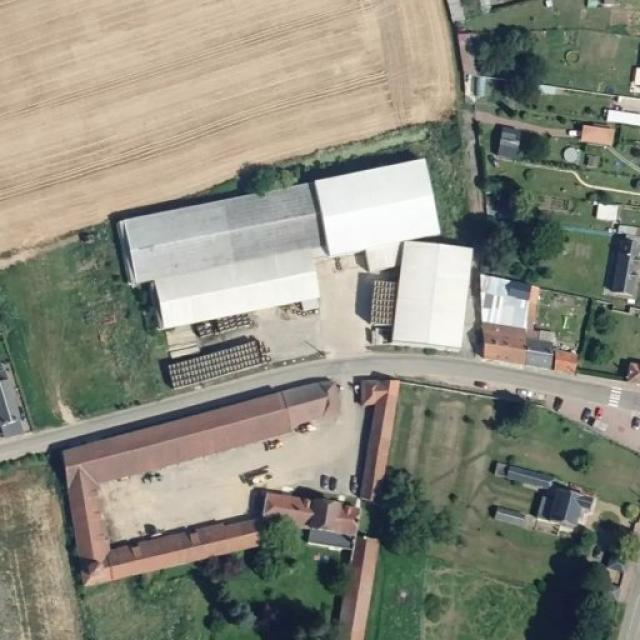ferme: (56, 382, 328, 594), (112, 168, 324, 312), (311, 149, 438, 245), (362, 230, 463, 334), (360, 363, 400, 488)
maison: (479, 278, 529, 367), (532, 472, 594, 528), (603, 217, 640, 296), (525, 337, 582, 374), (579, 120, 620, 148), (494, 124, 520, 156)
